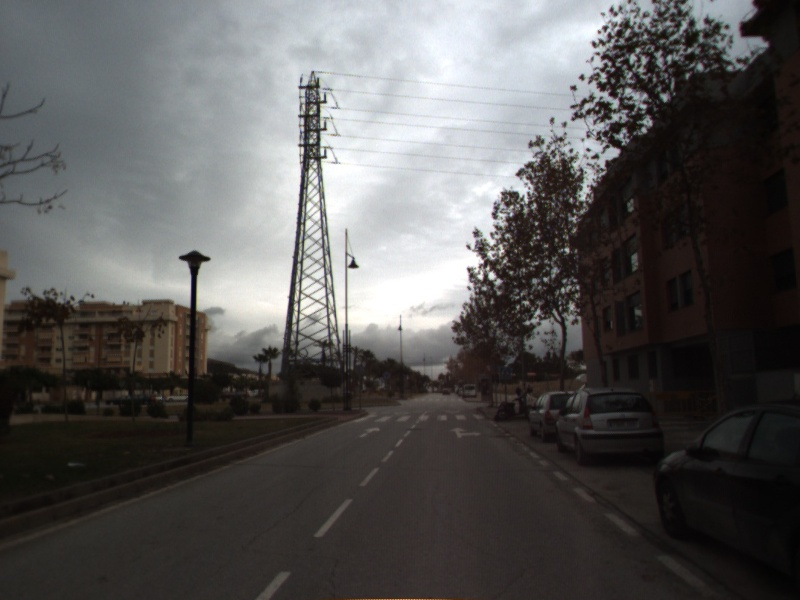STRAIGHT: (357, 425, 382, 440)
STRAIGHT_RIGHT: (447, 424, 484, 440)
